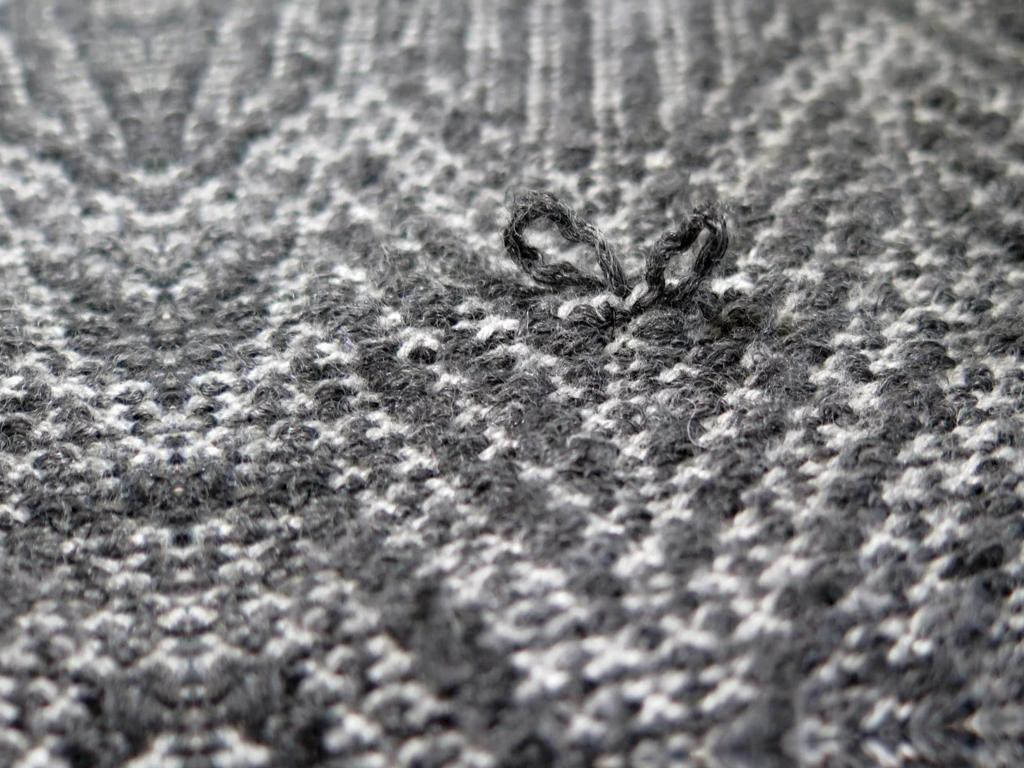snag: (500, 188, 629, 315), (641, 198, 743, 317)
